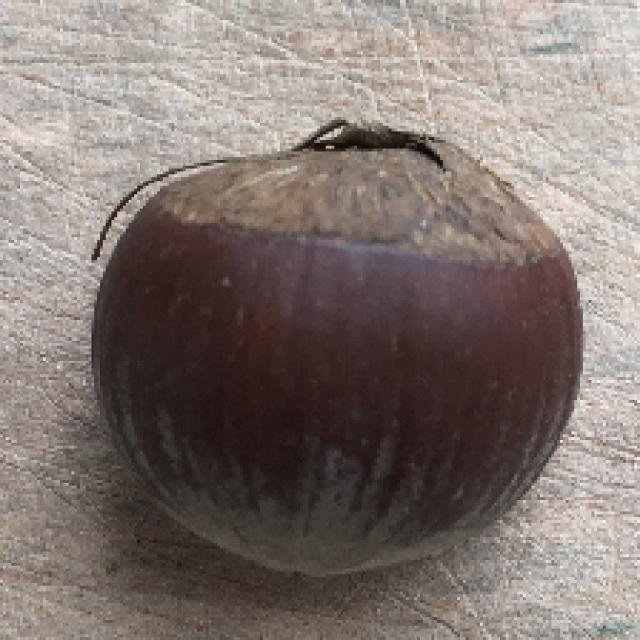damagedHazelnut: (88, 112, 594, 597)
